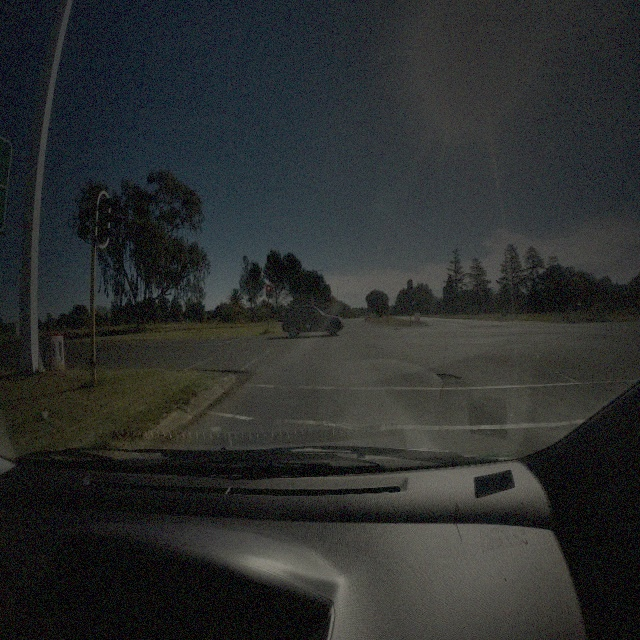pothole: (433, 370, 462, 384)
